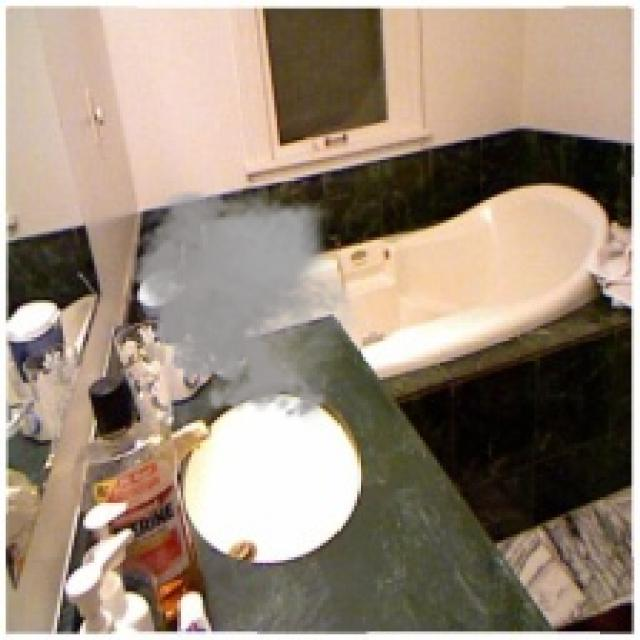smoke: (120, 180, 366, 426)
